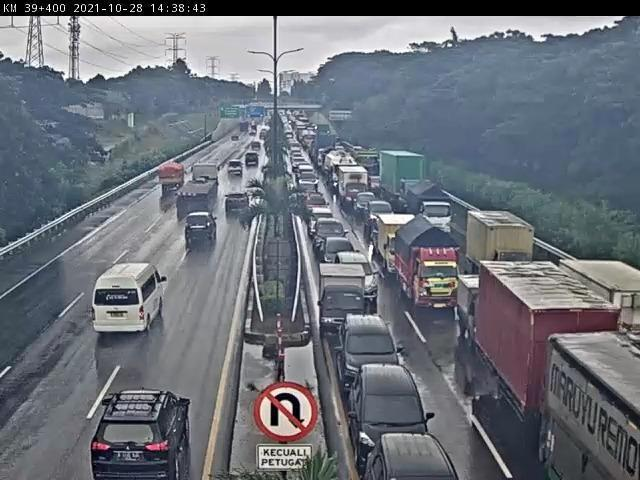car: (94, 390, 193, 480), (350, 366, 437, 465), (91, 262, 168, 333), (336, 315, 400, 399), (365, 434, 462, 480), (337, 253, 382, 303), (321, 237, 362, 278), (313, 220, 351, 259), (187, 213, 219, 243), (368, 200, 396, 232), (311, 208, 336, 238), (227, 190, 252, 213), (357, 193, 378, 218), (230, 162, 245, 177)
truck: (480, 260, 627, 447), (395, 217, 464, 314), (467, 209, 537, 291), (460, 275, 523, 352), (318, 262, 370, 338), (378, 213, 421, 278), (381, 152, 427, 211), (410, 179, 452, 239), (178, 165, 221, 205), (340, 166, 370, 208), (162, 163, 186, 193)
